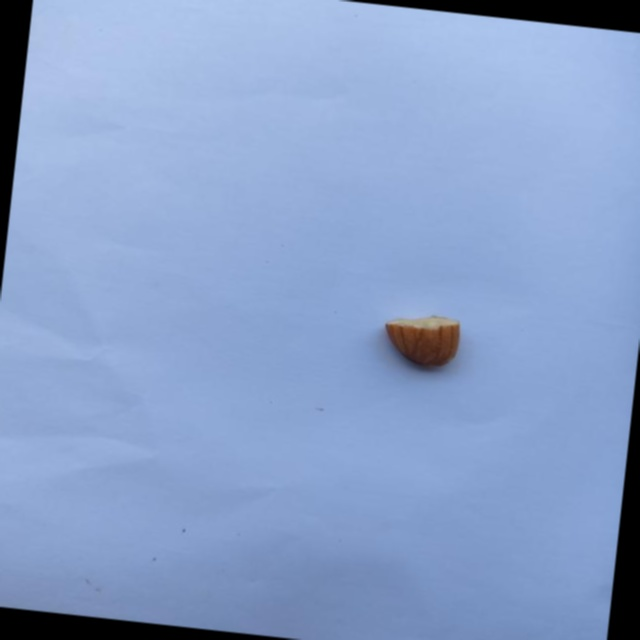grade4: (372, 306, 469, 378)
